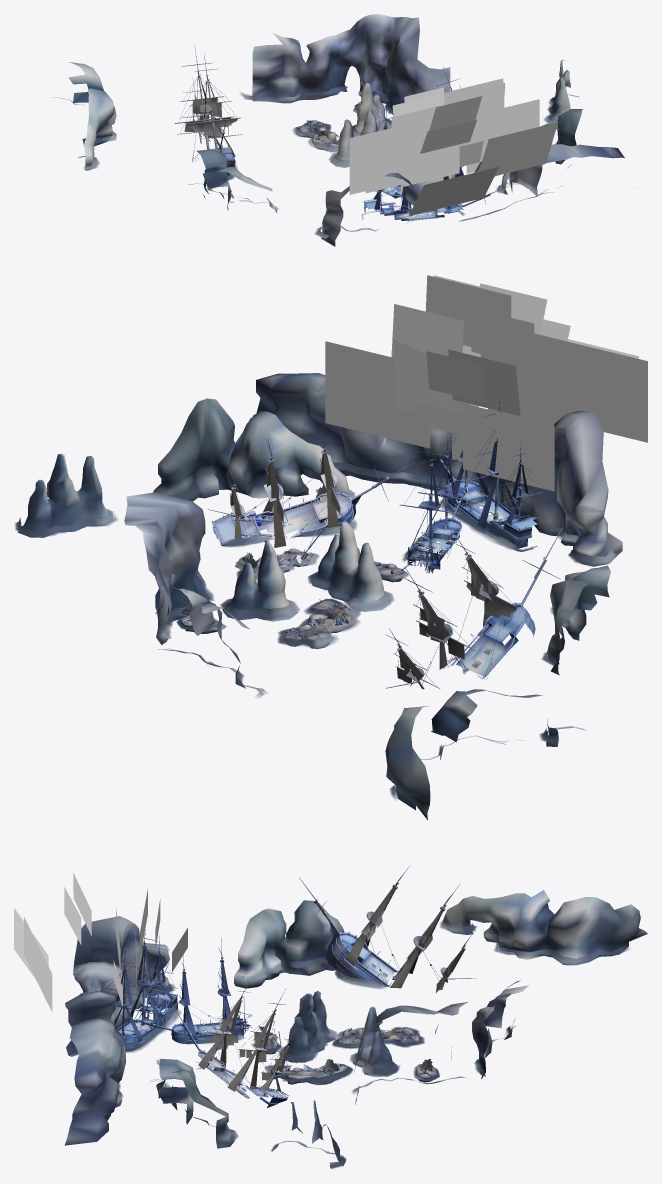
File: 02Islands.gltf
3 views of the same model, one above another, from view 1: azimuth 30°, elevation 25°; view 2: azimuth 150°, elevation 25°; view 3: azimuth 270°, elevation 25° (orthographic). The views are drawn at different scales.
Visible parts, largest first — view 1: stg050_o42_Mesh_0000, stg050_k42_Mesh_0000, stg050_shibuki_a_42_Mesh_0005, stg050_o42_Mesh_0010, stg050_shibuki_a_42_Mesh_0011, stg050_p42_Mesh_0005, stg050_o29_Mesh_0020, stg050_a42_Mesh_0004, stg050_p42_Mesh_0003, stg050_o42_Mesh_0033; view 2: stg050_o42_Mesh_0000, stg050_k42_Mesh_0000, stg050_o29_Mesh_0020, stg050_shibuki_a_42_Mesh_0005, stg050_o42_Mesh_0010, stg050_shibuki_a_42_Mesh_0011, stg050_p42_Mesh_0003, stg050_o42_Mesh_0033, stg050_a42_Mesh_0004, stg050_p42_Mesh_0005, stg050_o42_Mesh_0038, stg050_o42_Mesh_0013 (+2 smaller); view 3: stg050_o42_Mesh_0000, stg050_p42_Mesh_0003, stg050_shibuki_a_42_Mesh_0005, stg050_o42_Mesh_0010, stg050_k42_Mesh_0000, stg050_shibuki_a_42_Mesh_0011, stg050_o29_Mesh_0020, stg050_o42_Mesh_0033, stg050_a42_Mesh_0004, stg050_p42_Mesh_0005, stg050_o42_Mesh_0038, stg050_o42_Mesh_0019 (+2 smaller).
Boxes of the visible parts, x1,y1,x2,y2 form: stg050_o42_Mesh_0000: (68, 14, 624, 246); stg050_k42_Mesh_0000: (349, 78, 557, 215); stg050_shibuki_a_42_Mesh_0005: (55, 85, 578, 238); stg050_o42_Mesh_0010: (175, 45, 509, 220); stg050_shibuki_a_42_Mesh_0011: (72, 87, 578, 237); stg050_p42_Mesh_0005: (184, 97, 237, 138); stg050_o29_Mesh_0020: (205, 117, 462, 220); stg050_a42_Mesh_0004: (325, 50, 414, 203); stg050_p42_Mesh_0003: (193, 76, 448, 210); stg050_o42_Mesh_0033: (194, 70, 490, 219); stg050_o42_Mesh_0000: (17, 373, 622, 820); stg050_k42_Mesh_0000: (325, 275, 647, 491); stg050_o29_Mesh_0020: (183, 457, 537, 681); stg050_shibuki_a_42_Mesh_0005: (15, 466, 616, 799); stg050_o42_Mesh_0010: (181, 392, 563, 689); stg050_shibuki_a_42_Mesh_0011: (18, 462, 614, 759); stg050_p42_Mesh_0003: (227, 438, 538, 686); stg050_o42_Mesh_0033: (213, 449, 546, 682); stg050_a42_Mesh_0004: (158, 380, 608, 615); stg050_p42_Mesh_0005: (230, 463, 516, 682); stg050_o42_Mesh_0038: (182, 478, 537, 674); stg050_o42_Mesh_0013: (231, 430, 539, 686); stg050_o42_Mesh_0000: (64, 890, 647, 1166); stg050_p42_Mesh_0003: (114, 887, 464, 1092); stg050_shibuki_a_42_Mesh_0005: (116, 922, 629, 1168); stg050_o42_Mesh_0010: (105, 865, 476, 1103); stg050_k42_Mesh_0000: (14, 873, 187, 1012); stg050_shibuki_a_42_Mesh_0011: (118, 920, 608, 1167); stg050_o29_Mesh_0020: (116, 911, 452, 1098); stg050_o42_Mesh_0033: (117, 883, 465, 1104); stg050_a42_Mesh_0004: (81, 924, 488, 1095); stg050_p42_Mesh_0005: (210, 909, 450, 1080); stg050_o42_Mesh_0038: (119, 936, 431, 1097); stg050_o42_Mesh_0019: (123, 935, 405, 1107).
Bounding box in the file's own units: 880 × 279 × 949.
